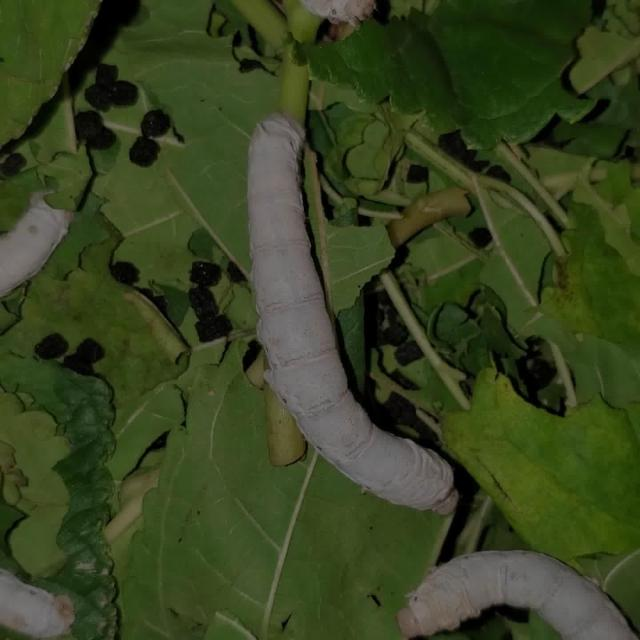Healthy: (227, 105, 462, 519)
